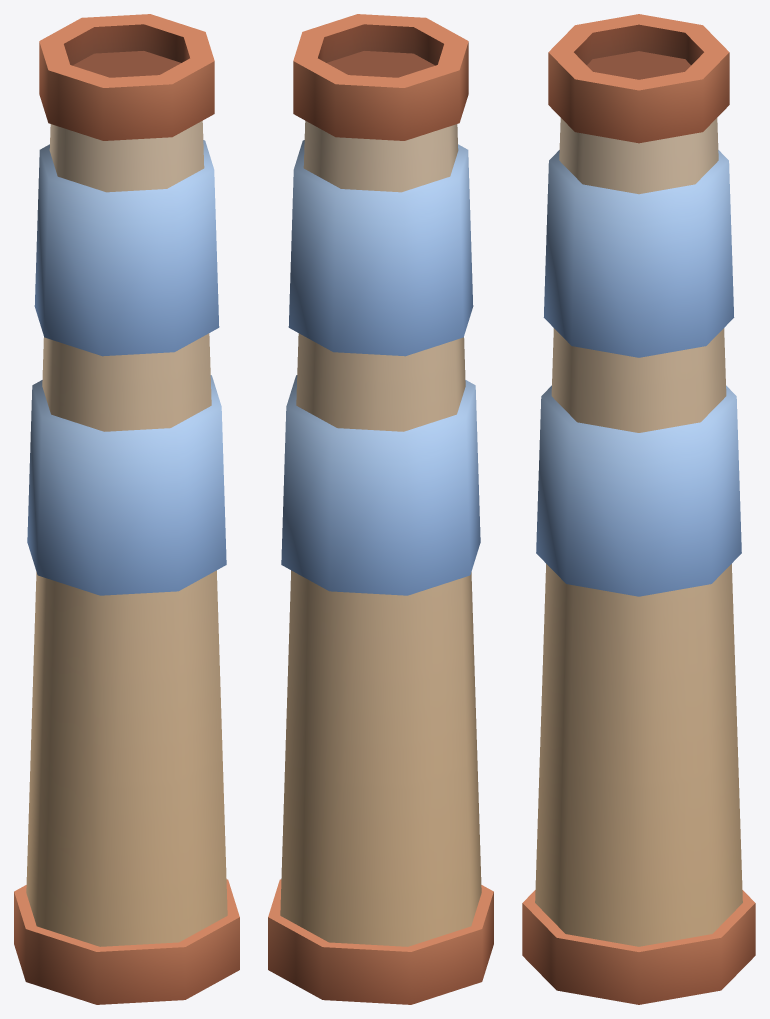
The model's file is chimney-medium.glb.
3 renders of one model, left to right at view 1: azimuth 30°, elevation 25°; view 2: azimuth 150°, elevation 25°; view 3: azimuth 270°, elevation 25°, orthographic.
Visible parts, largest first — view 1: chimney-medium; view 2: chimney-medium; view 3: chimney-medium.
Part boxes in pixels (bbox=[...]): chimney-medium: bbox=[14, 14, 239, 1004]; chimney-medium: bbox=[268, 14, 493, 1004]; chimney-medium: bbox=[522, 14, 755, 1004].
Size of the model in its own units: 0.45 by 1.92 by 0.45.
Materials: 1 (1 with a texture image).
